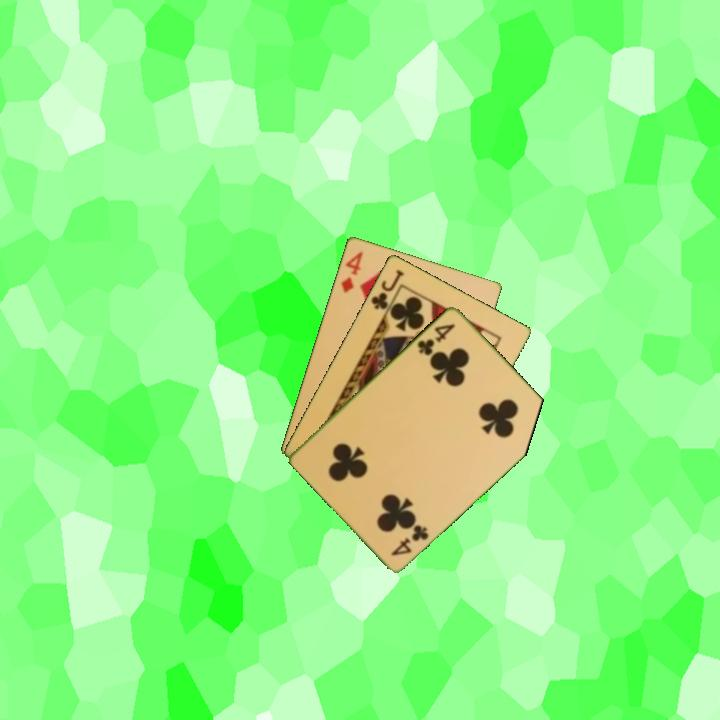4c: (387, 520, 431, 559), (414, 320, 458, 358)
4d: (337, 247, 365, 295)
Jc: (367, 266, 407, 312)
